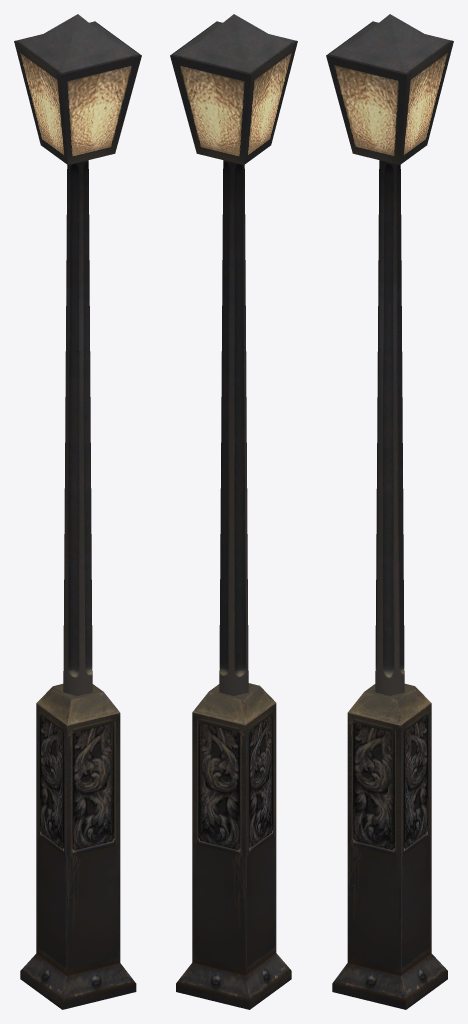
File: light_object_d_from_fps_creator_classic.glb
3 views of the same model, side by side, from view 1: azimuth 30°, elevation 25°; view 2: azimuth 150°, elevation 25°; view 3: azimuth 330°, elevation 25° (orthographic).
Visible parts, largest first — view 1: light_object_d; view 2: light_object_d; view 3: light_object_d.
Boxes of the visible parts, box(x1,y1,x2,y2) form: light_object_d: box(14, 14, 141, 1009); light_object_d: box(170, 14, 297, 1009); light_object_d: box(326, 14, 453, 1009).
Bounding box in the file's own units: 0.2189 × 2.51 × 0.2189.
1 material, 1 textured.
